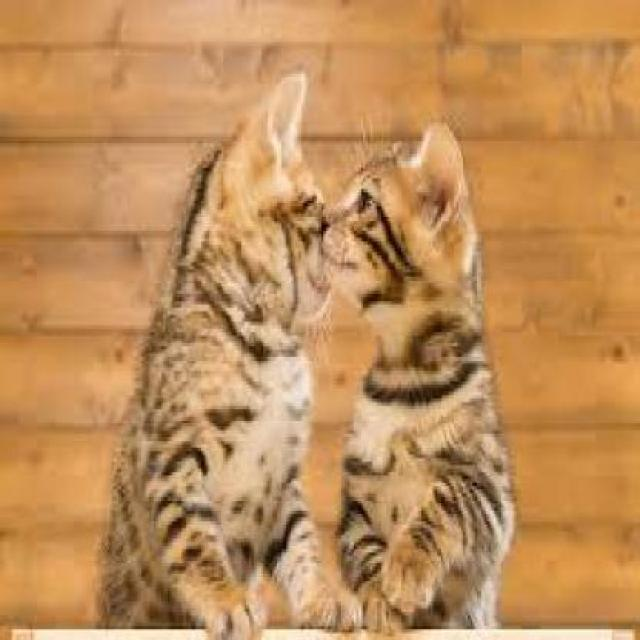cat: (102, 59, 366, 636), (323, 131, 519, 635)
